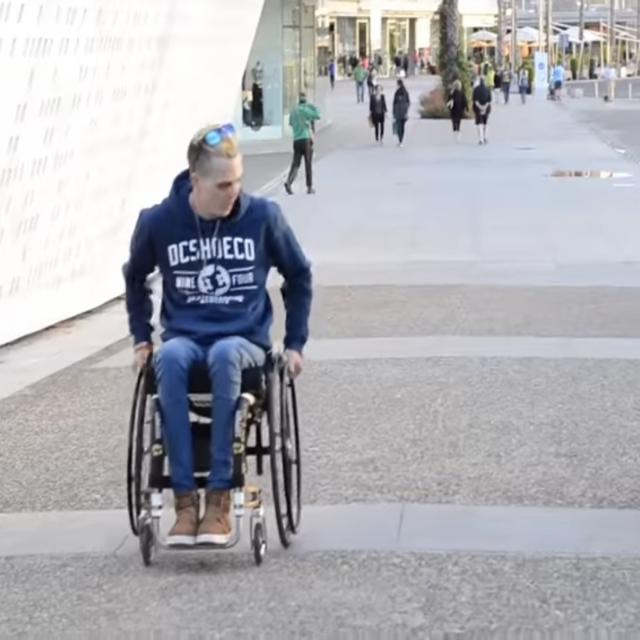wheelchairs: (127, 276, 302, 566)
